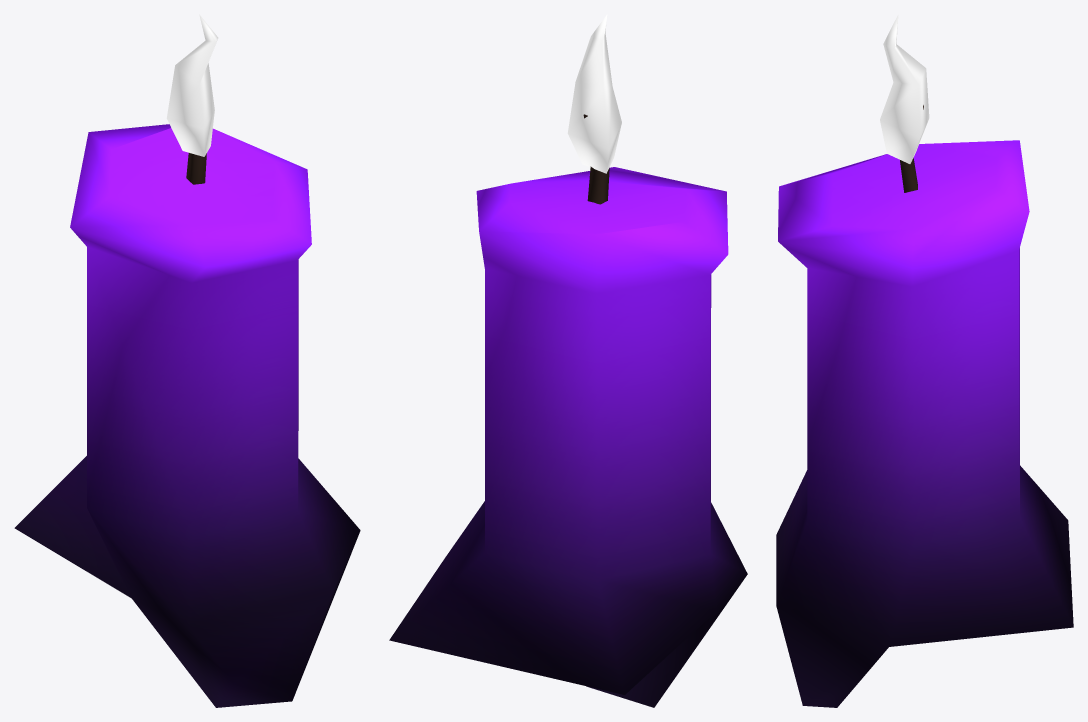
The model's file is CandleShapeD.049.glb.
3 views of the same model, side by side, from view 1: azimuth 30°, elevation 25°; view 2: azimuth 150°, elevation 25°; view 3: azimuth 270°, elevation 25° (orthographic). The views are drawn at different scales.
Parts seen in each view (by area): view 1: CandleShapeD.049; view 2: CandleShapeD.049; view 3: CandleShapeD.049.
Boxes of the visible parts, bbox=[...] form: CandleShapeD.049: bbox=[14, 14, 360, 707]; CandleShapeD.049: bbox=[389, 14, 747, 707]; CandleShapeD.049: bbox=[776, 15, 1073, 707].
Size of the model in its own units: 0.1424 by 0.327 by 0.1308.
Materials: 2 (2 with a texture image).
